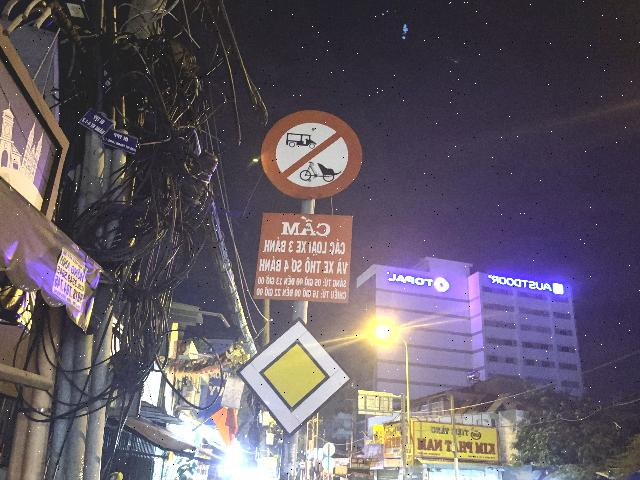bat-dau-duong-uu-tien: (236, 315, 354, 439)
cam-xe-3-banh-xe-tho-so-4-banh: (260, 109, 362, 200)
